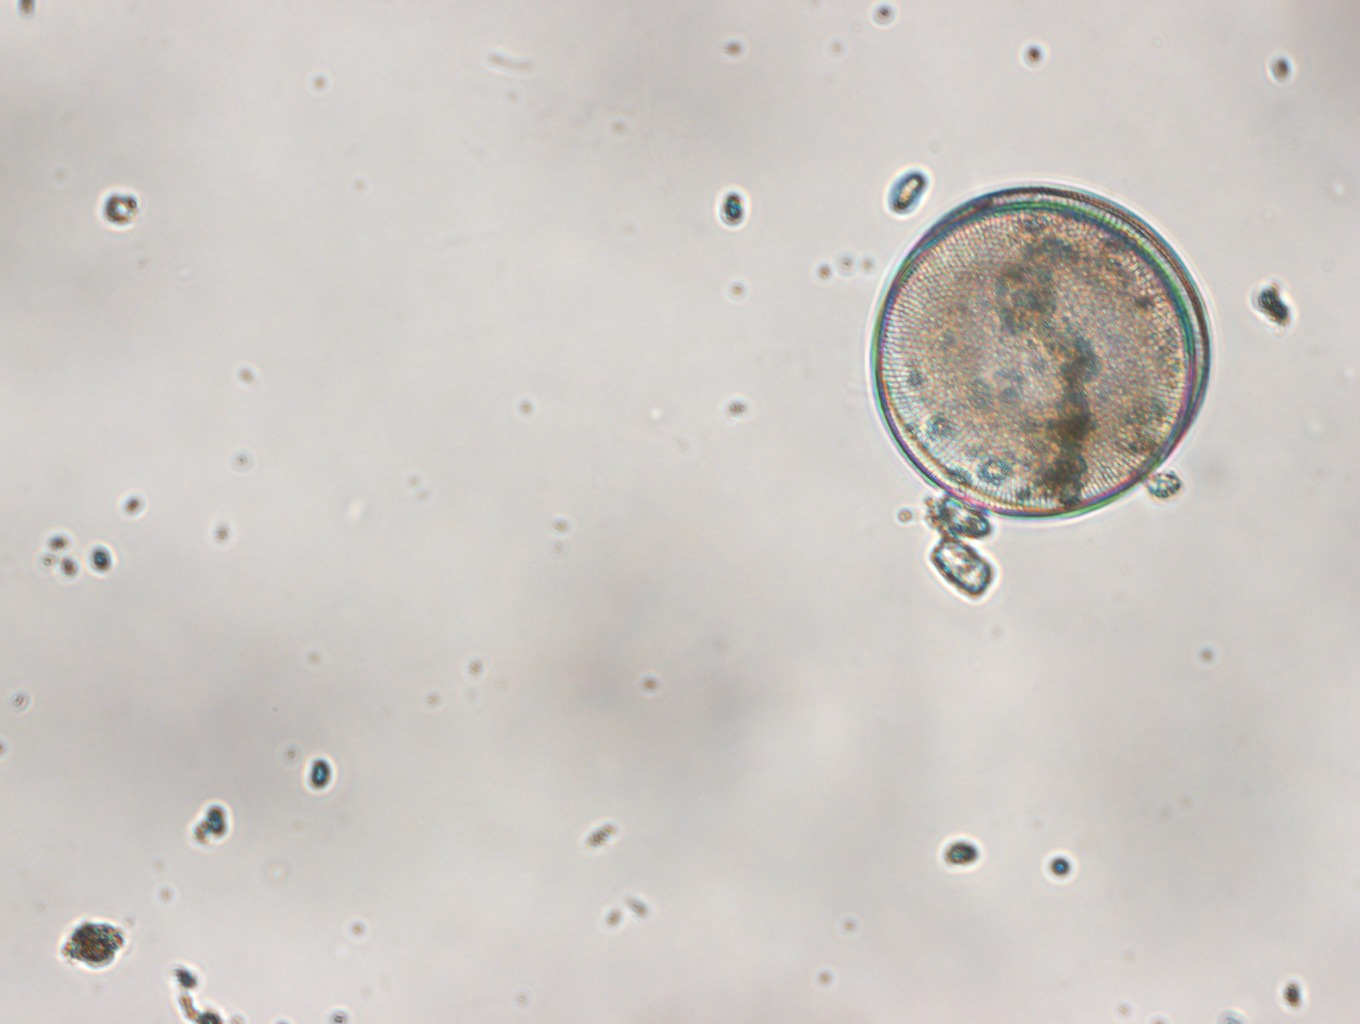coscinodiscus: (865, 181, 1212, 524)
